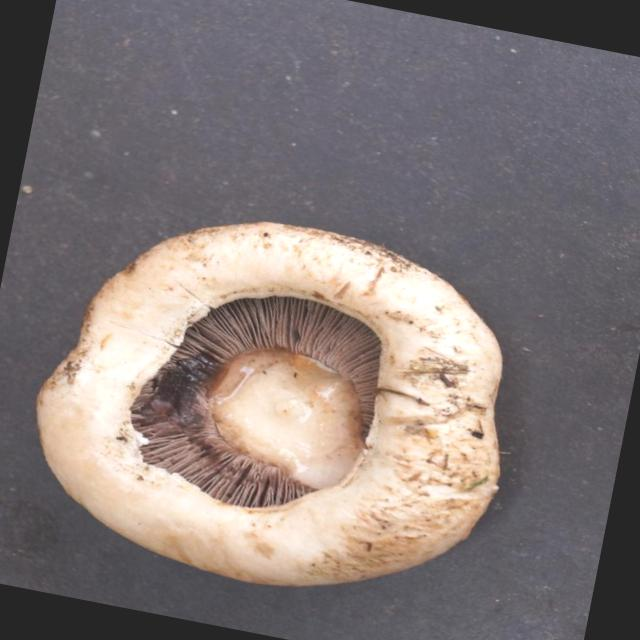Agaricus bisporus: (9, 180, 547, 626)
